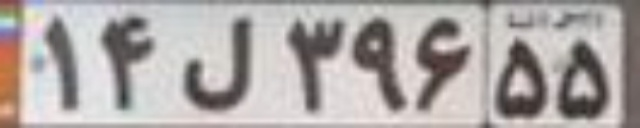1: (42, 15, 78, 110)
3: (287, 16, 345, 111)
4: (98, 15, 154, 110)
5: (493, 36, 550, 118), (555, 38, 613, 117)
6: (415, 16, 472, 111)
9: (350, 17, 407, 111)
lam: (175, 14, 260, 110)
